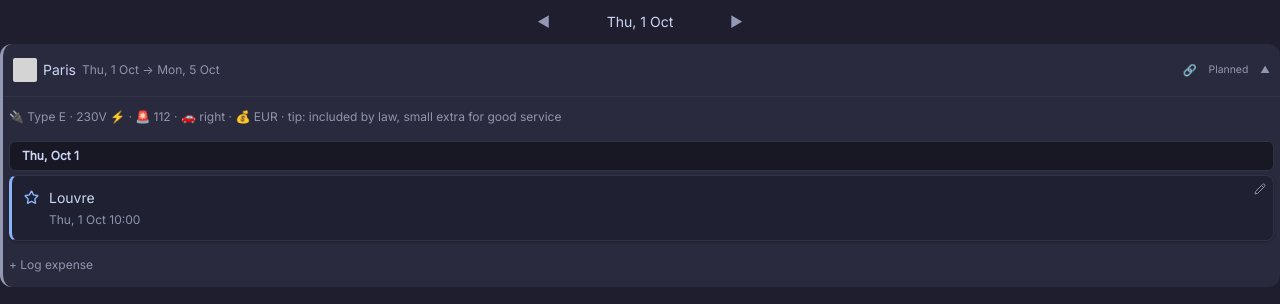
Test: Today mode day navigation › changing day replaces the entry with the new day
Click the button named "Next day" at (736, 22), box [724, 12, 749, 32]
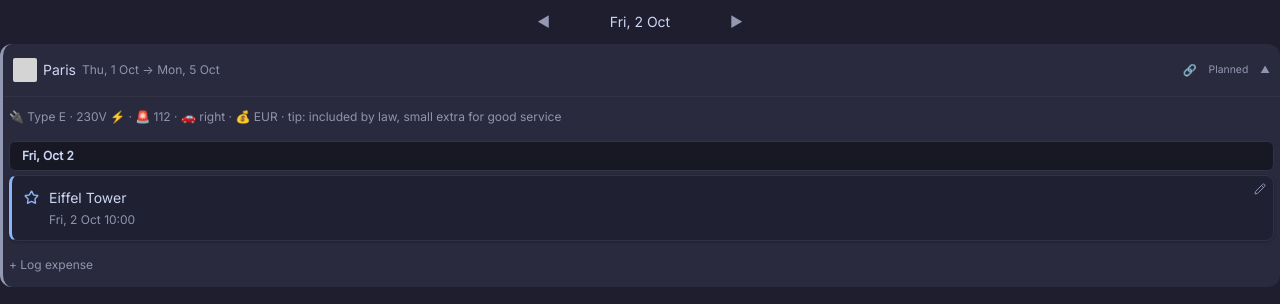
Expected: the text "Eiffel Tower" is shown, [49, 189, 126, 206]
